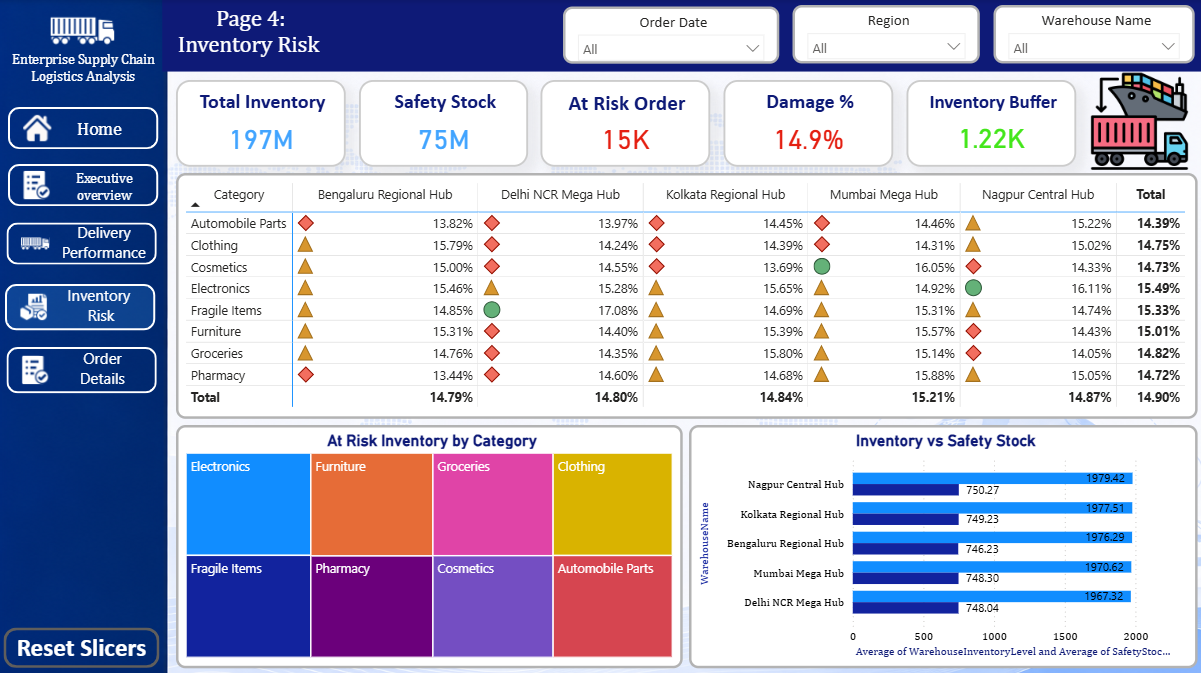

This screenshot's page, from the dashboard's own definition file:
{"tool":"powerbi","page":{"name":"Inventory Risk","canvas":[1280,720],"ordinal":3},"visuals":[{"type":"group","id":"g1","title":"SideBar","box":[0,0,186.8,427.5],"z":0},{"type":"image","box":[0,0,183,67.4],"z":0,"group":"g1"},{"type":"actionButton","box":[12.7,114.4,159.3,44.6],"z":0,"group":"g4"},{"type":"actionButton","box":[12.7,175.1,159.3,44.6],"z":0,"group":"g3"},{"type":"actionButton","box":[11.8,237.1,159.3,44.6],"z":0,"group":"g5"},{"type":"actionButton","box":[10,301,159.3,49],"z":0,"group":"g6"},{"type":"actionButton","box":[11.1,368.3,159.3,49],"z":0,"group":"g7"},{"type":"textbox","box":[0,50.1,184.9,52],"z":1000,"group":"g1"},{"type":"group","id":"g2","title":"Group 6","box":[191.3,85.9,954.4,92.3],"z":1000},{"type":"card","title":"Total Inventory","fields":{"Values":["Measure.Total Inventory"]},"box":[191.3,85.9,179.7,92.3],"z":1000,"group":"g2"},{"type":"textbox","box":[70.2,120.8,78.8,33.4],"z":1000,"group":"g4"},{"type":"textbox","box":[63.6,175.1,101.8,55.7],"z":1000,"group":"g3"},{"type":"textbox","box":[43.6,231.3,143.2,57.8],"z":1000,"group":"g5"},{"type":"textbox","box":[39.8,296.7,143.2,63.6],"z":1000,"group":"g6"},{"type":"textbox","box":[40.9,364,143.2,63.6],"z":1000,"group":"g7"},{"type":"textbox","box":[176.1,0,1103.9,76.3],"z":2000},{"type":"group","id":"g3","title":"Group 1","box":[12.7,175.1,159.3,55.7],"z":2000,"group":"g1"},{"type":"card","title":"Safety Stock","fields":{"Values":["Measure.Safety Stock"]},"box":[385.1,85.9,179,92.3],"z":3000,"group":"g2"},{"type":"group","id":"g4","title":"Group 2","box":[12.7,114.4,159.3,44.6],"z":3000,"group":"g1"},{"type":"clusteredBarChart","title":"Inventory vs Safety Stock","fields":{"Category":["Dim_Warehouse.WarehouseName"],"Y":["Avg(Fact_Orders.WarehouseInventoryLevel)","Avg(Fact_Orders.SafetyStockLevel)"]},"box":[734.9,451.7,539.2,257.7],"z":3000},{"type":"card","title":"At Risk Order","fields":{"Values":["Measure.At Risk Inventory"]},"box":[578.2,85.9,179.7,92.3],"z":4000,"group":"g2"},{"type":"group","id":"g5","title":"Group 3","box":[11.8,231.3,175,57.8],"z":4000,"group":"g1"},{"type":"treemap","fields":{"Group":["Dim_Product.Category"],"Values":["Measure.At Risk Inventory"]},"box":[190.9,451.7,537.6,257.7],"z":4000},{"type":"card","title":"Damage %","fields":{"Values":["Measure.Inventory Risk %"]},"box":[772.1,85.9,179.7,92.3],"z":5000,"group":"g2"},{"type":"pivotTable","fields":{"Rows":["Dim_Product.Category"],"Columns":["Dim_Warehouse.WarehouseName"],"Values":["Measure.Inventory Risk %"]},"box":[190.9,184.5,1083.2,260.9],"z":5000},{"type":"group","id":"g6","title":"Group 4","box":[10,296.7,173,63.6],"z":5000,"group":"g1"},{"type":"slicer","title":"Order Date","fields":{"Values":["Fact_Orders.OrderDate.Variation.Date Hierarchy.Year","Fact_Orders.OrderDate.Variation.Date Hierarchy.Quarter","Fact_Orders.OrderDate.Variation.Date Hierarchy.Month","Fact_Orders.OrderDate.Variation.Date Hierarchy.Day"]},"box":[601.3,8,229,60.4],"z":6000},{"type":"group","id":"g7","title":"Group 5","box":[11.1,364,173,63.6],"z":6000,"group":"g1"},{"type":"slicer","title":"Region","fields":{"Values":["Fact_Orders.Region"]},"box":[844.6,6.4,198.8,62],"z":7000},{"type":"card","title":"Inventory Buffer","fields":{"Values":["Measure.Inventory Buffer"]},"box":[965.9,85.9,179.7,92.3],"z":7000,"group":"g2"},{"type":"slicer","title":"Warehouse Name","fields":{"Values":["Dim_Warehouse.WarehouseName"]},"box":[1057.8,6.4,213.1,62],"z":8000},{"type":"actionButton","box":[8,666.5,165.4,42.9],"z":8001},{"type":"image","box":[1144.8,76.3,135.2,106.6],"z":8002}]}

Visuals, with their boxes in screenshot pixels (x1, y1, x2, y2), scaled from the page's 1280x720 canvas onto the 1201x673 screenshot:
"SideBar" group: [left=0, top=0, right=175, bottom=400]
image: [left=0, top=0, right=172, bottom=63]
actionButton: [left=12, top=107, right=161, bottom=149]
actionButton: [left=12, top=164, right=161, bottom=205]
actionButton: [left=11, top=222, right=161, bottom=263]
actionButton: [left=9, top=281, right=159, bottom=327]
actionButton: [left=10, top=344, right=160, bottom=390]
textbox: [left=0, top=47, right=173, bottom=95]
"Group 6" group: [left=179, top=80, right=1075, bottom=167]
"Total Inventory" card: [left=179, top=80, right=348, bottom=167]
textbox: [left=66, top=113, right=140, bottom=144]
textbox: [left=60, top=164, right=155, bottom=216]
textbox: [left=41, top=216, right=175, bottom=270]
textbox: [left=37, top=277, right=172, bottom=337]
textbox: [left=38, top=340, right=173, bottom=400]
textbox: [left=165, top=0, right=1200, bottom=71]
"Group 1" group: [left=12, top=164, right=161, bottom=216]
"Safety Stock" card: [left=361, top=80, right=529, bottom=167]
"Group 2" group: [left=12, top=107, right=161, bottom=149]
"Inventory vs Safety Stock" clusteredBarChart: [left=690, top=422, right=1195, bottom=663]
"At Risk Order" card: [left=543, top=80, right=711, bottom=167]
"Group 3" group: [left=11, top=216, right=175, bottom=270]
treemap - Dim_Product.Category x Measure.At Risk Inventory: [left=179, top=422, right=684, bottom=663]
"Damage %" card: [left=724, top=80, right=893, bottom=167]
pivotTable - Dim_Product.Category x Dim_Warehouse.WarehouseName: [left=179, top=172, right=1195, bottom=416]
"Group 4" group: [left=9, top=277, right=172, bottom=337]
"Order Date" slicer: [left=564, top=7, right=779, bottom=64]
"Group 5" group: [left=10, top=340, right=173, bottom=400]
"Region" slicer: [left=792, top=6, right=979, bottom=64]
"Inventory Buffer" card: [left=906, top=80, right=1075, bottom=167]
"Warehouse Name" slicer: [left=993, top=6, right=1192, bottom=64]
actionButton: [left=8, top=623, right=163, bottom=663]
image: [left=1074, top=71, right=1200, bottom=171]
